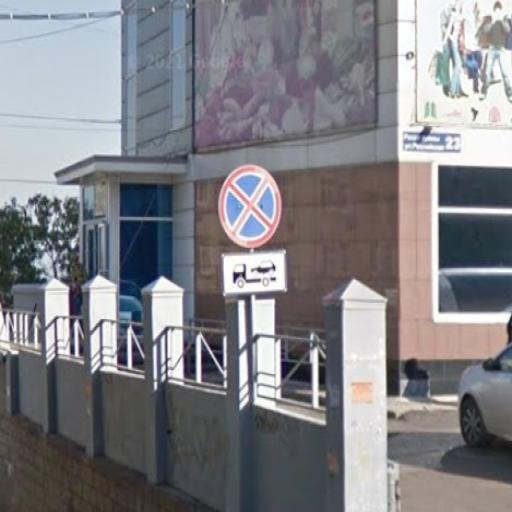traffic_sign: (217, 162, 285, 253)
